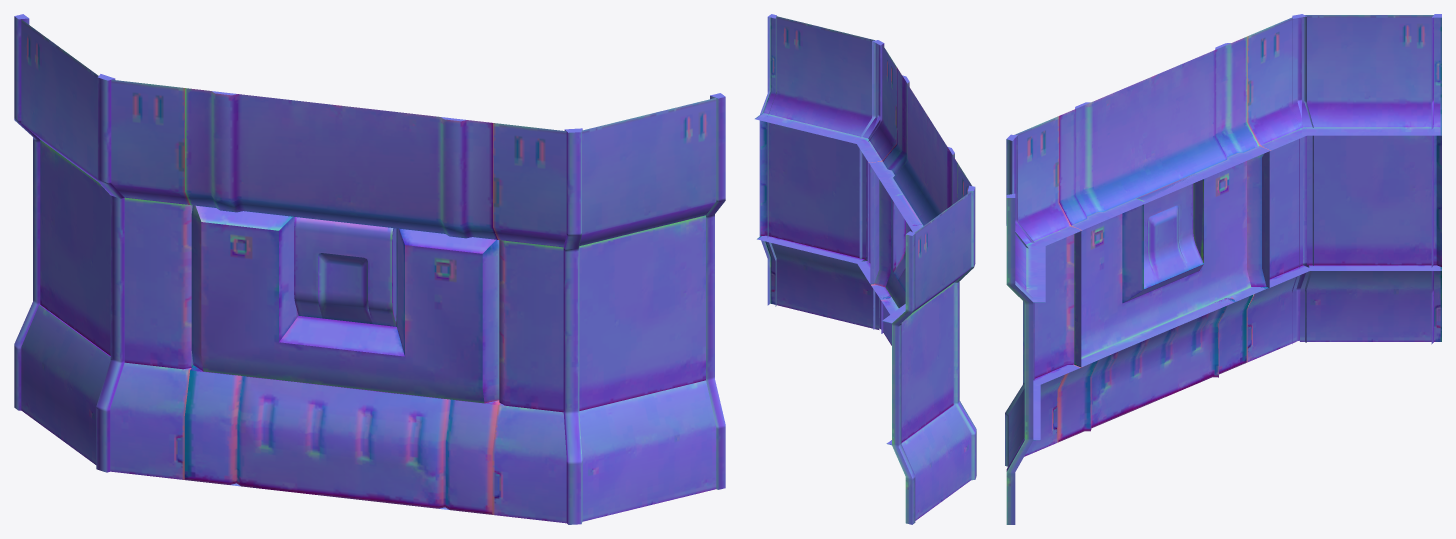
File: Corner_Interior_Convex_Angled_600x500_A.fbx
3 views of the same model, side by side, from view 1: azimuth 30°, elevation 25°; view 2: azimuth 150°, elevation 25°; view 3: azimuth 270°, elevation 25° (orthographic). The views are drawn at different scales.
Parts seen in each view (by area): view 1: Geom_Corner_Interior_Convex_Angled_600x500_A_LOD00; view 2: Geom_Corner_Interior_Convex_Angled_600x500_A_LOD00; view 3: Geom_Corner_Interior_Convex_Angled_600x500_A_LOD00.
Boxes of the visible parts, x1=… form: Geom_Corner_Interior_Convex_Angled_600x500_A_LOD00: x1=14, y1=14, x2=725, y2=524; Geom_Corner_Interior_Convex_Angled_600x500_A_LOD00: x1=755, y1=14, x2=976, y2=524; Geom_Corner_Interior_Convex_Angled_600x500_A_LOD00: x1=1005, y1=14, x2=1441, y2=524.
Size of what is drawn, in the model's own units: 605 by 500 by 605.
